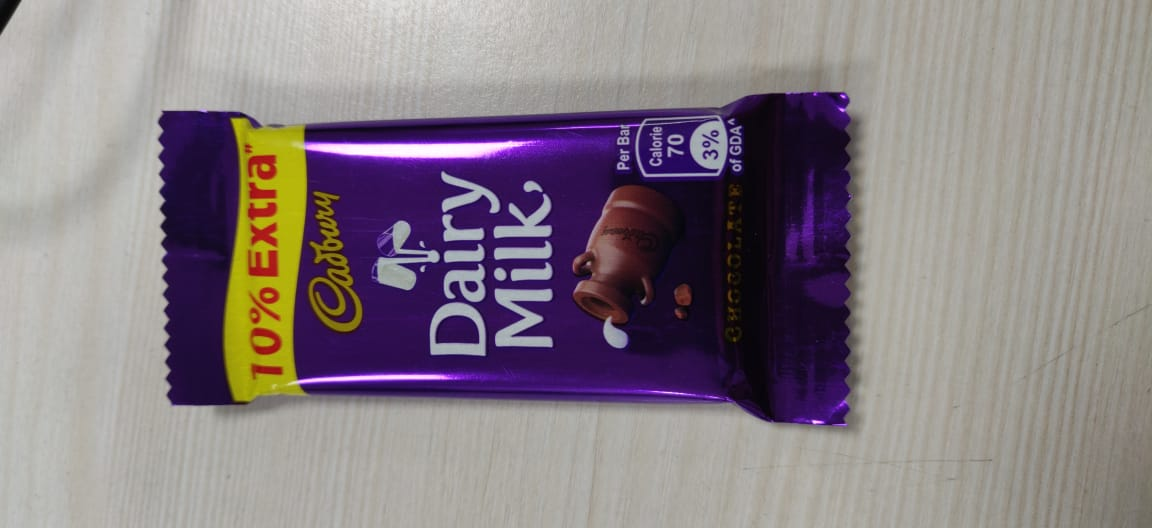dairy milk: (137, 92, 871, 442)
